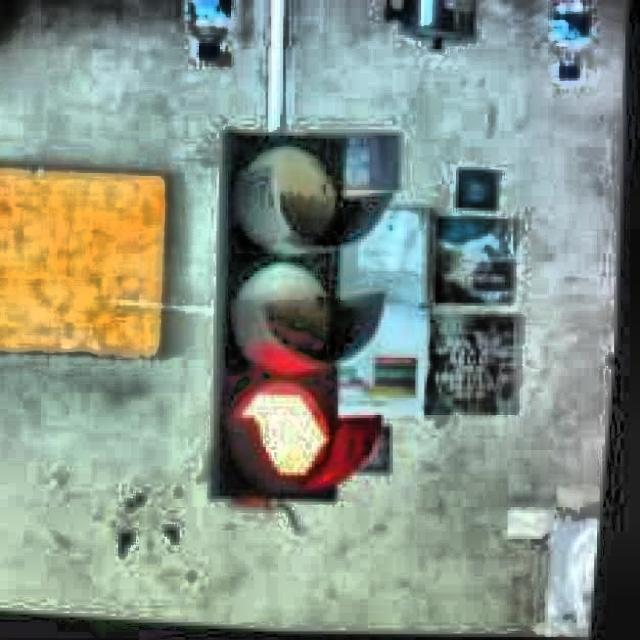red: (211, 125, 374, 502)
